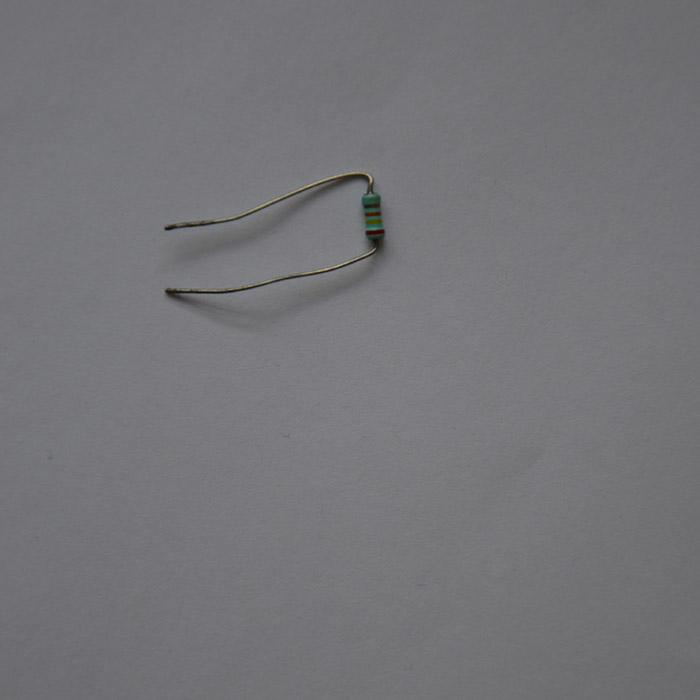resistor: (360, 189, 388, 245)
